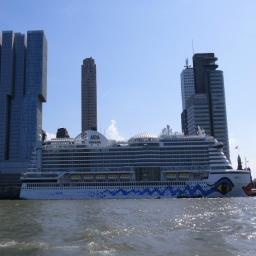cruises: (19, 126, 255, 204)
